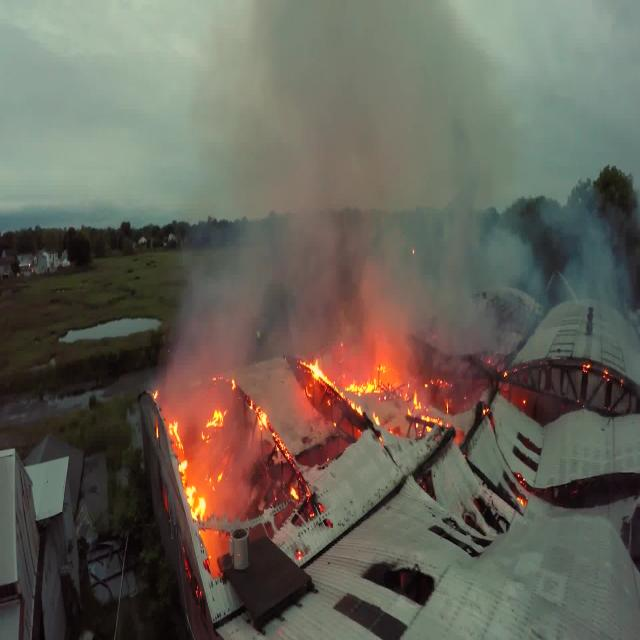Fire: (142, 369, 313, 587), (288, 341, 453, 436)
Smoke: (147, 0, 504, 437)
